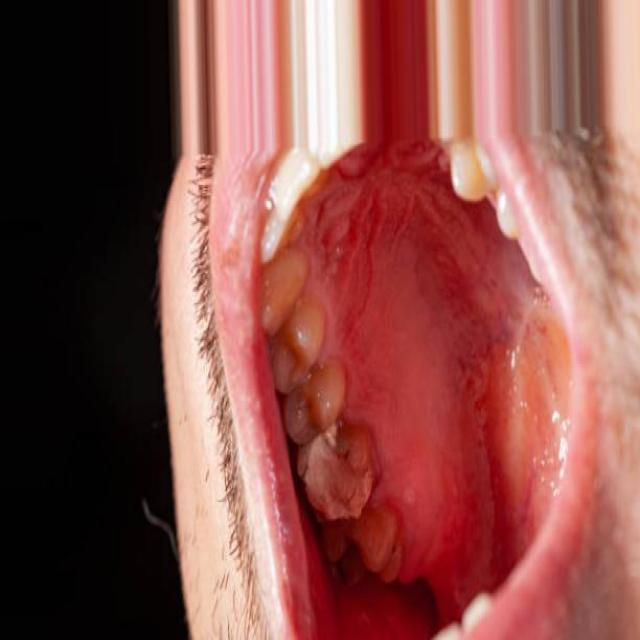caries: (296, 427, 374, 523)
